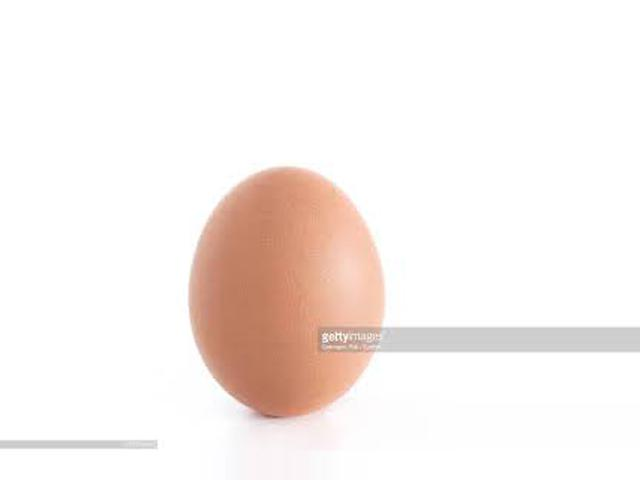egg: (189, 166, 385, 412)
